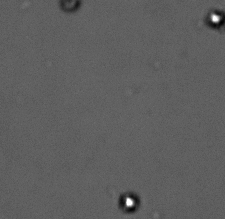Dead Cell: (59, 1, 80, 12)
Living Cell: (119, 193, 139, 212), (206, 8, 224, 28)
